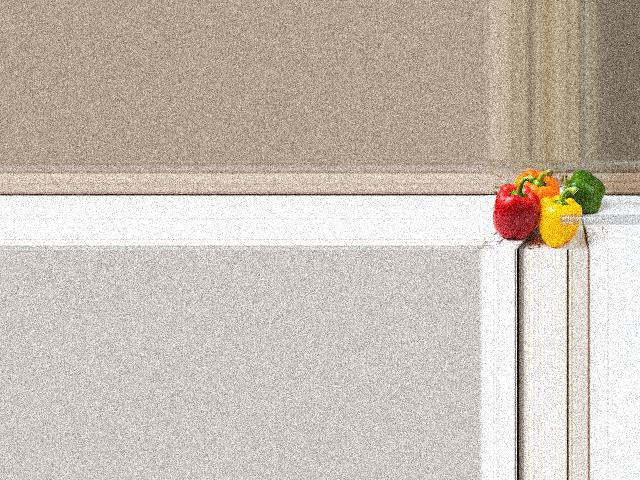bell_pepper: (514, 168, 561, 201)
